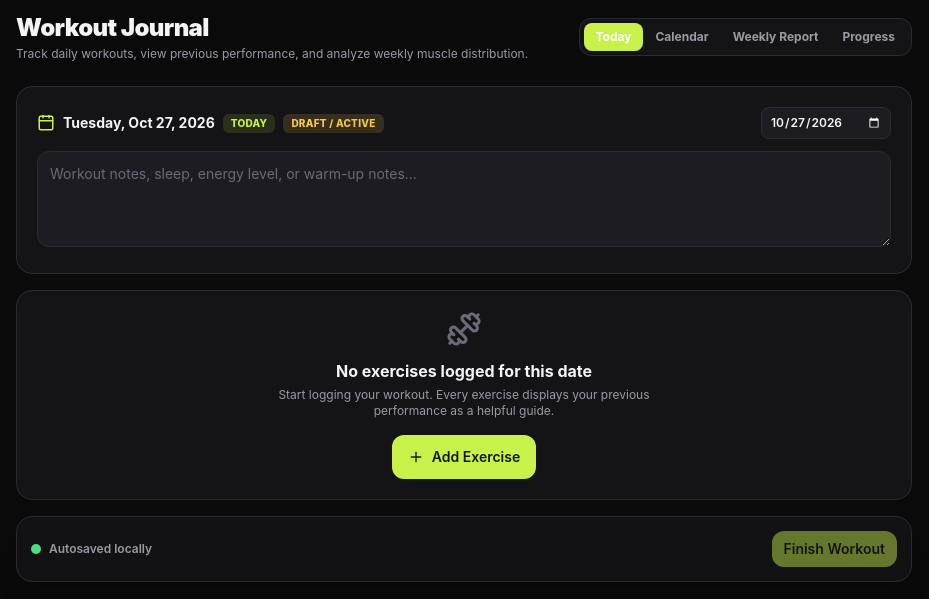
WorkoutJournal feature test › can open Calendar view and see days
Step 1. Click the button "Calendar" → (682, 37), box [644, 23, 721, 51]
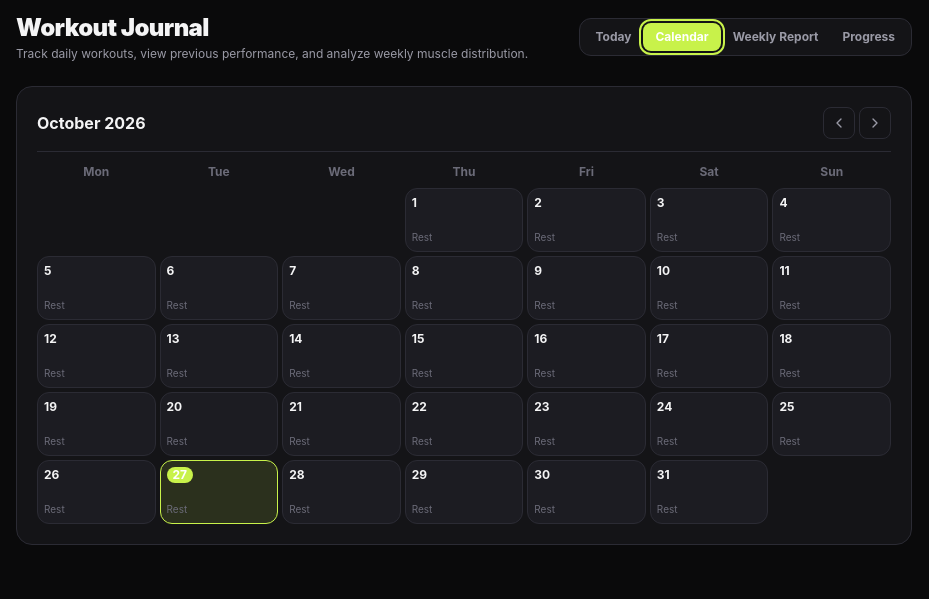
Check: the text "Mon" is shown, box [83, 164, 109, 179]
Check: the text "Sun" is shown, box [820, 164, 843, 179]
